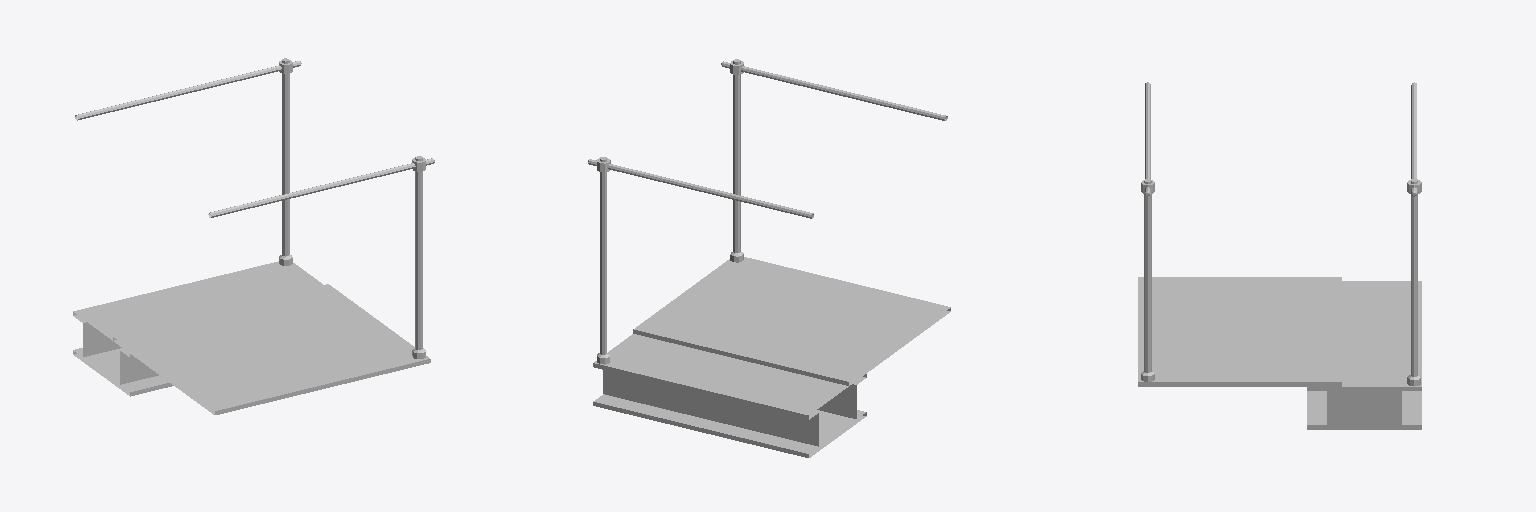
Rendered from lms_signal_gantry_platform_right.obj.
The picture shows the model from 3 angles: view 1: azimuth 30°, elevation 25°; view 2: azimuth 150°, elevation 25°; view 3: azimuth 270°, elevation 25°; orthographic projection.
Visible parts, largest first — view 1: Platform_Right_Cube.043; view 2: Platform_Right_Cube.043; view 3: Platform_Right_Cube.043.
Boxes of the visible parts, <box> form: Platform_Right_Cube.043: <box>73,58,434,414</box>; Platform_Right_Cube.043: <box>588,59,950,457</box>; Platform_Right_Cube.043: <box>1138,82,1421,429</box>.
Size of the model in its own units: 1.04 by 1.09 by 1.14.